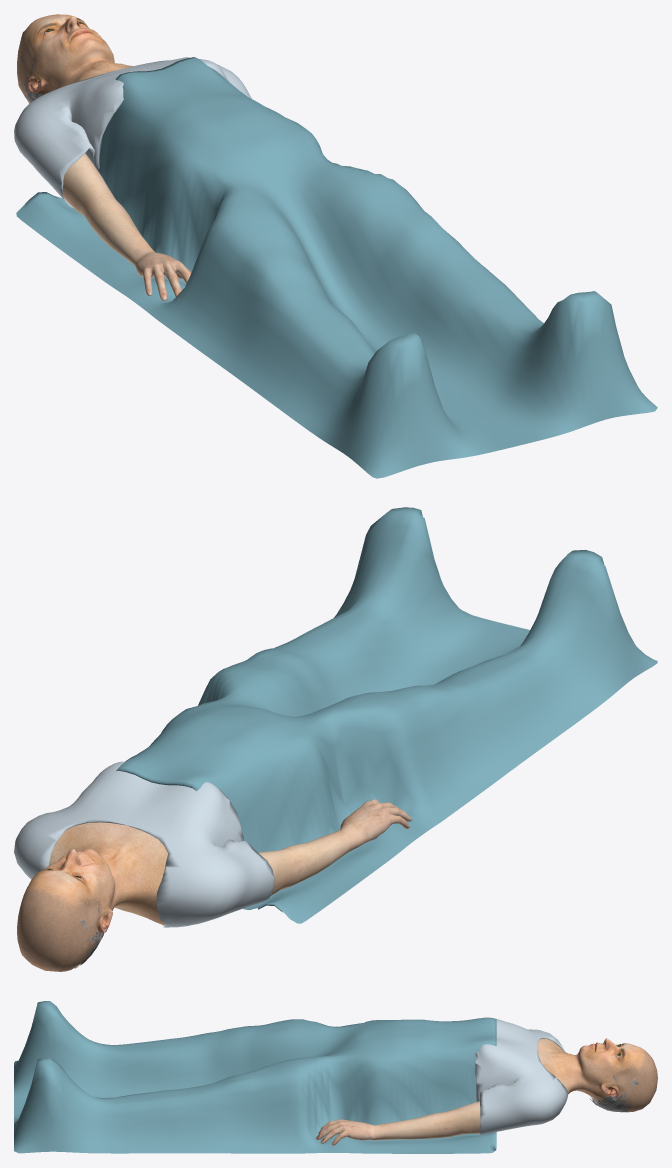
3 renders of one model, top to bottom at view 1: azimuth 30°, elevation 25°; view 2: azimuth 150°, elevation 25°; view 3: azimuth 270°, elevation 25°, orthographic. The views are drawn at different scales.
Parts seen in each view (by area): view 1: sheet, gown, body, arms; view 2: sheet, gown, body, arms; view 3: sheet, gown, body, arms, hair.
Boxes of the visible parts, left/top/right/bottom form: sheet: left=16, top=57, right=657, bottom=478; gown: left=14, top=57, right=251, bottom=207; body: left=17, top=14, right=133, bottom=102; arms: left=62, top=153, right=191, bottom=300; sheet: left=116, top=507, right=657, bottom=923; gown: left=14, top=761, right=274, bottom=927; body: left=17, top=822, right=167, bottom=971; arms: left=258, top=799, right=412, bottom=895; sheet: left=14, top=1001, right=496, bottom=1153; gown: left=475, top=1017, right=568, bottom=1134; body: left=537, top=1038, right=657, bottom=1112; arms: left=316, top=1101, right=480, bottom=1145; hair: left=590, top=1076, right=638, bottom=1112.
Size of the model in its own units: 0.6435 by 0.2551 by 1.89.
Materials: 8 (6 with a texture image).
